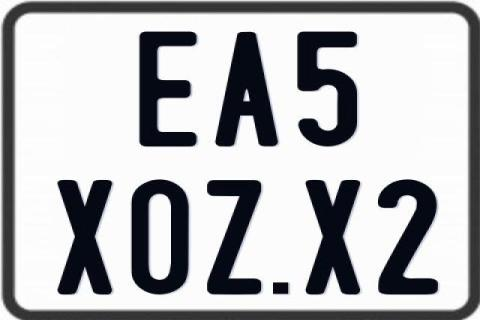0: (376, 177, 440, 295), (296, 31, 356, 147), (129, 178, 187, 298)
A: (212, 31, 276, 145)
E: (136, 29, 195, 150)
X: (56, 179, 111, 296), (306, 180, 360, 296)
Z: (205, 179, 263, 299)
